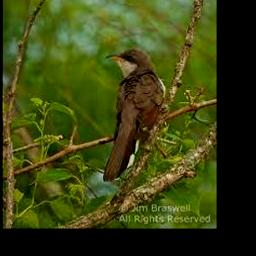Cuckoo: (102, 49, 166, 181)
